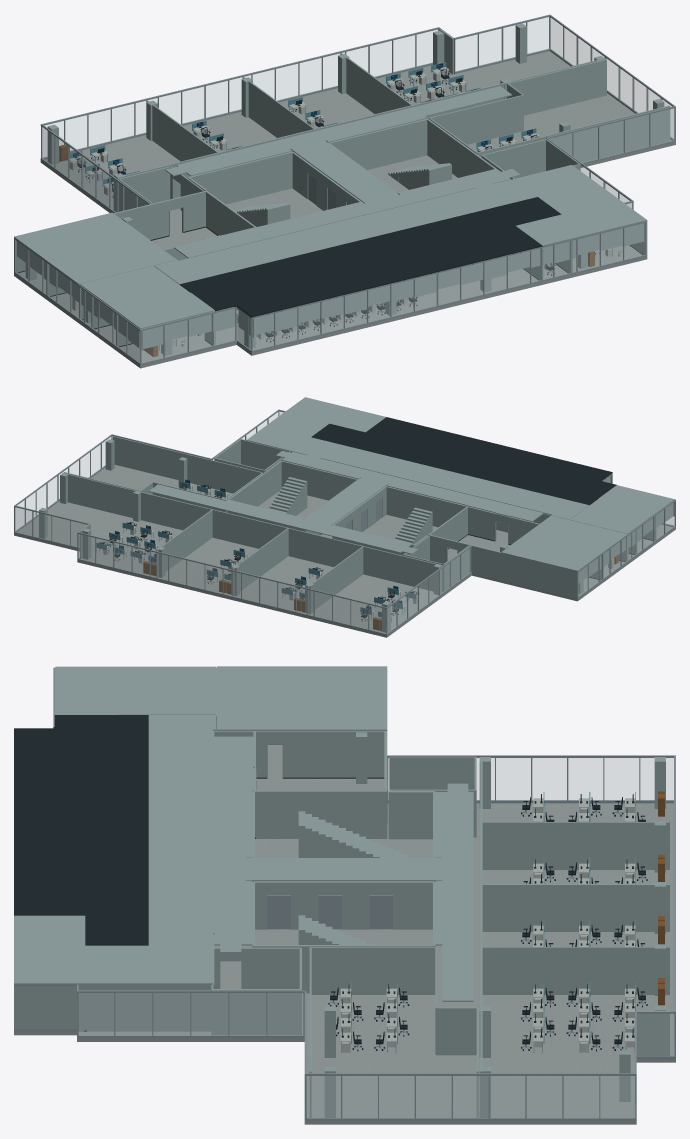
Rendered from f12-interior-lod2.glb.
3 views of the same model, one above another, from view 1: azimuth 30°, elevation 25°; view 2: azimuth 150°, elevation 25°; view 3: azimuth 270°, elevation 25° (orthographic). The views are drawn at different scales.
Parts seen in each view (by area): view 1: V6_F12_WALL, V6_F12_CEILING, V6_F12_FLOOR, V6_F12_FURNITURE; view 2: V6_F12_WALL, V6_F12_CEILING, V6_F12_FLOOR, V6_F12_FURNITURE; view 3: V6_F12_WALL, V6_F12_CEILING, V6_F12_FLOOR, V6_F12_FURNITURE.
Boxes of the visible parts, x1,y1,x2,y2 form: V6_F12_WALL: (14, 14, 675, 363); V6_F12_CEILING: (14, 86, 647, 329); V6_F12_FLOOR: (14, 51, 675, 368); V6_F12_FURNITURE: (14, 49, 675, 365); V6_F12_WALL: (14, 409, 675, 634); V6_F12_CEILING: (149, 397, 674, 571); V6_F12_FLOOR: (14, 465, 675, 637); V6_F12_FURNITURE: (14, 465, 675, 635); V6_F12_WALL: (14, 667, 675, 1118); V6_F12_CEILING: (14, 666, 473, 1001); V6_F12_FLOOR: (14, 745, 675, 1124); V6_F12_FURNITURE: (14, 777, 675, 1120).
Bounding box in the file's own units: 55.47 × 3.31 × 38.19.
15 materials, 3 textured.
